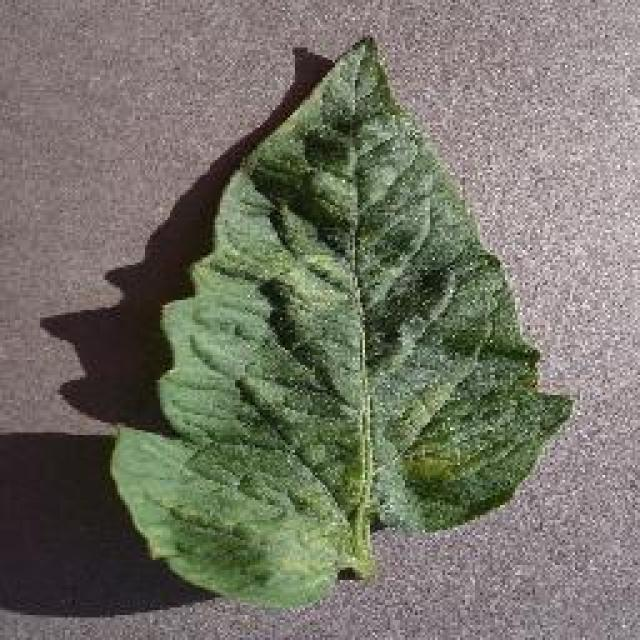Tomato spider mites leaf: (109, 35, 578, 607)
